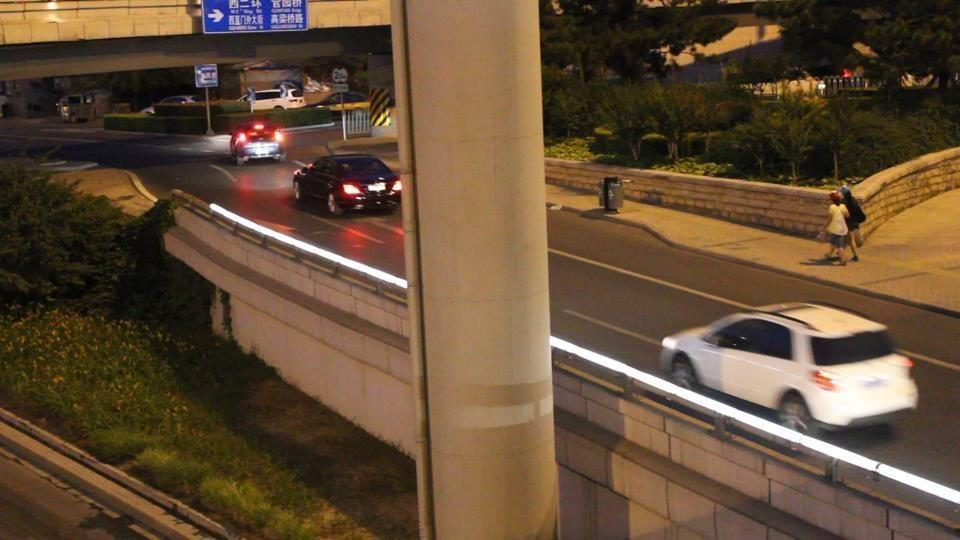car: (658, 301, 918, 434), (292, 154, 403, 215), (229, 117, 287, 165), (240, 85, 301, 113), (57, 95, 93, 124)
